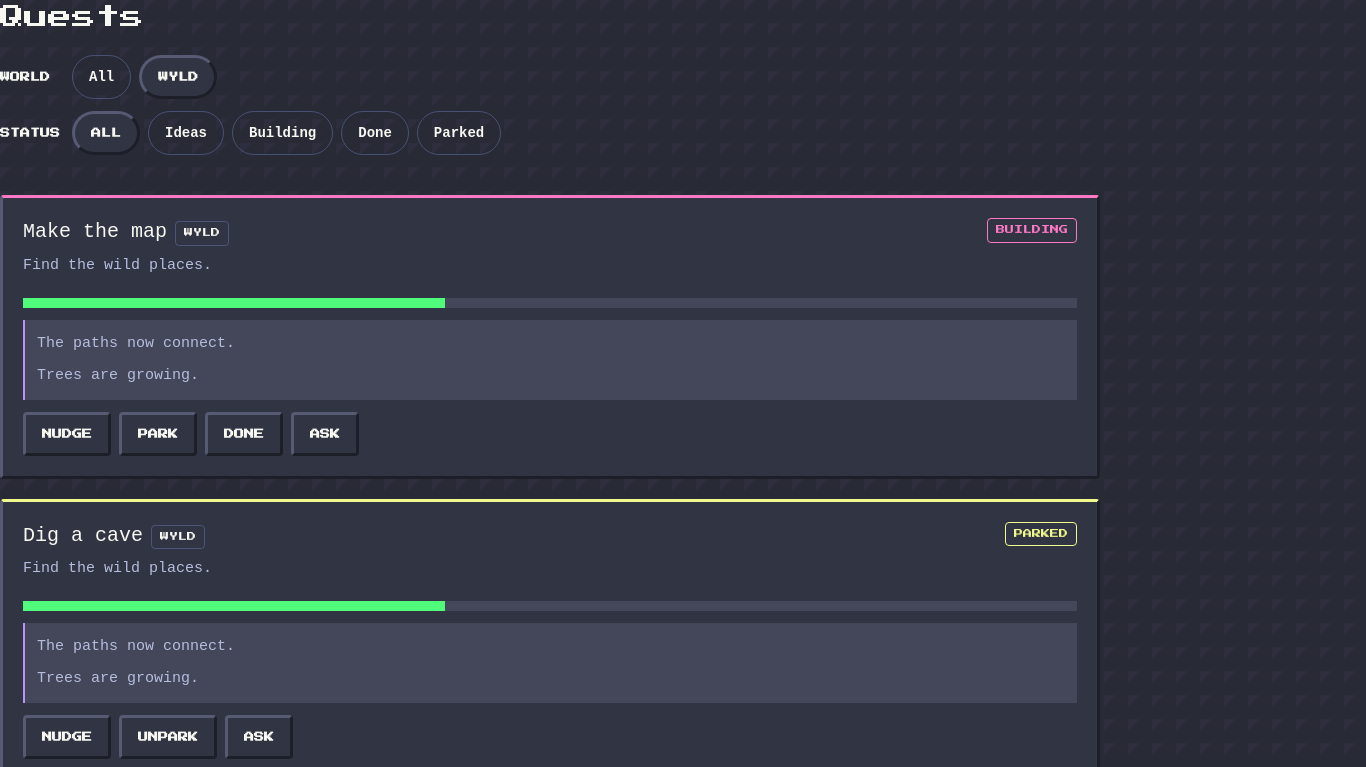
Quests › moves active quests into the collapsed done section and toggles it
Expected: the heading "Make the map" is shown, [23,218,167,246]
Expected: the text "Plant the trees" is not shown
Click the button "Done" below "Make the map": click(244, 434) [205,412,283,456]
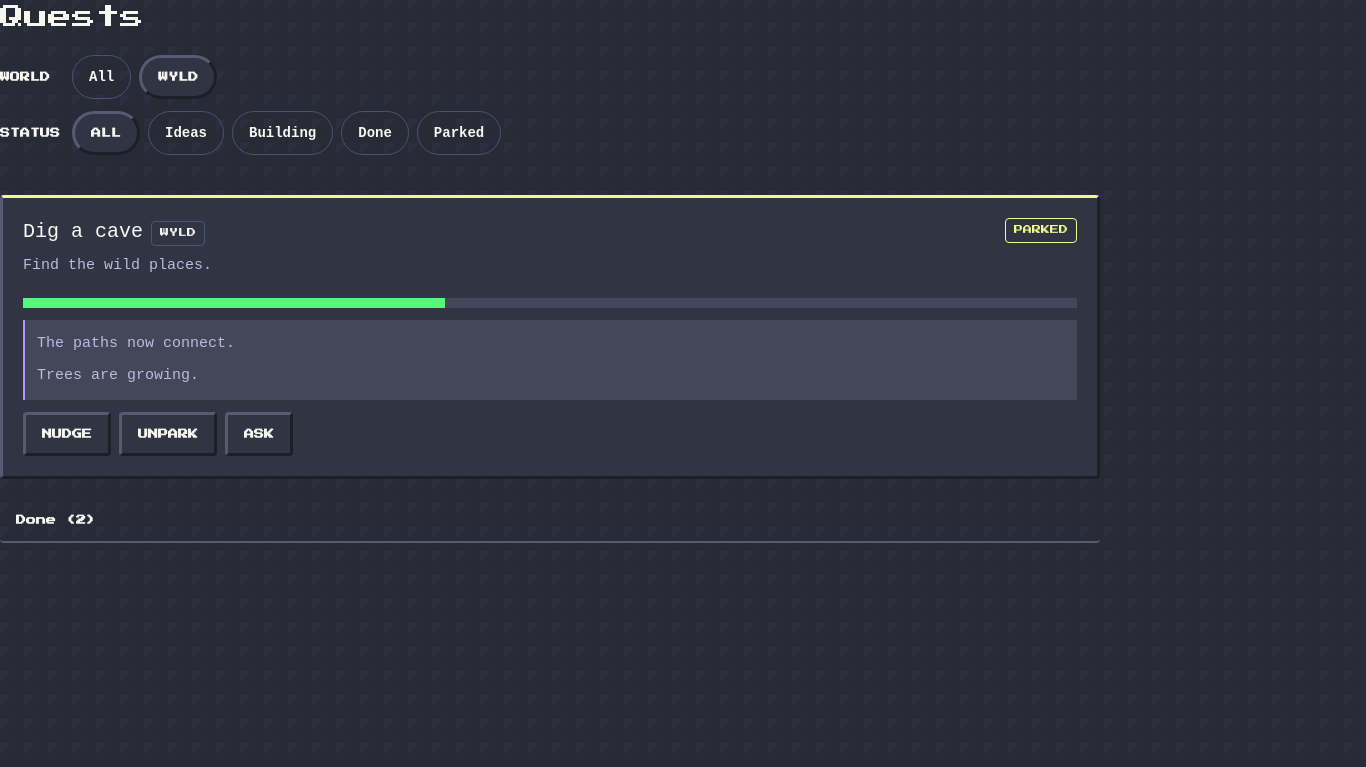
Now the heading "Make the map" is gone
Click the button "Done (2)": click(46, 520) [0,499,1100,543]
(page scrolled)
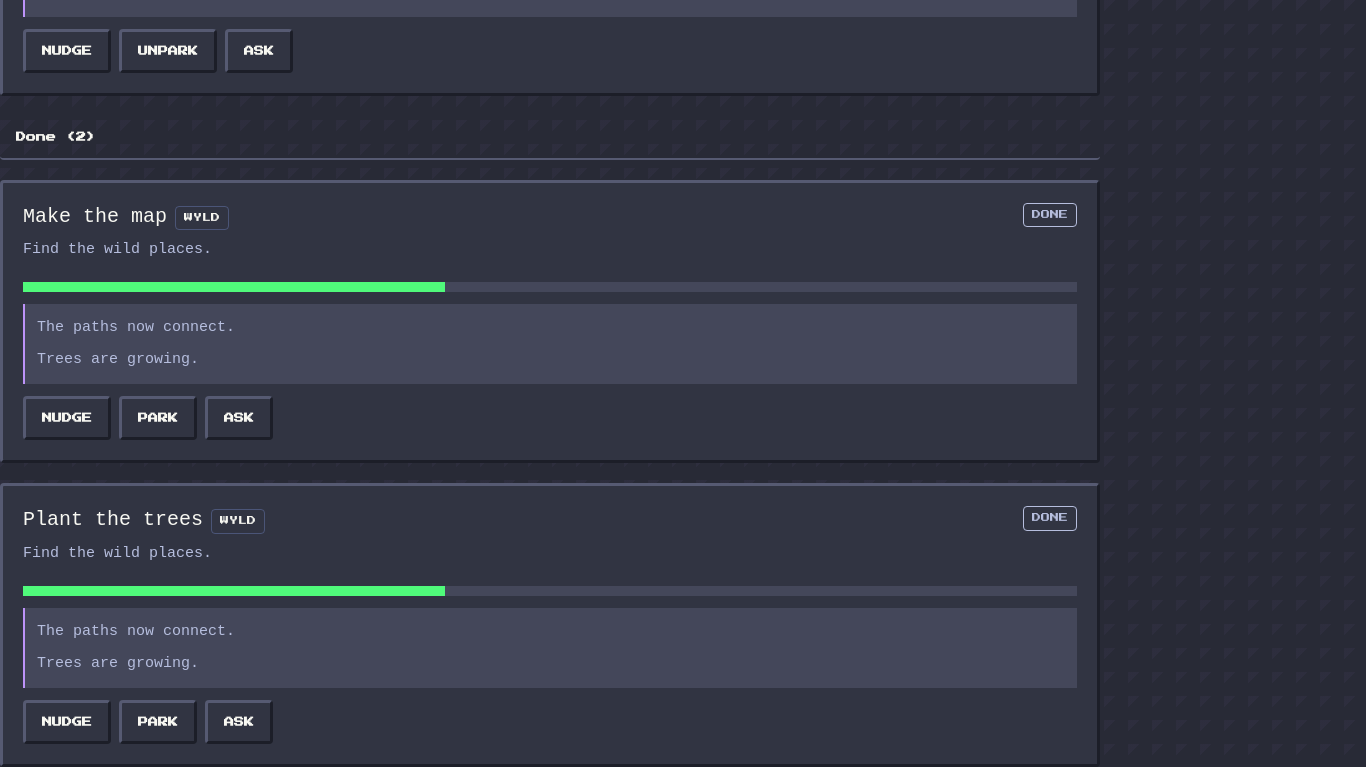
Now the button "Done (2)" is expanded, box [0,116,1100,160]
Now the heading "Make the map" is shown, box [23,203,167,230]
Now the heading "Plant the trees" is shown, box [23,506,203,534]
